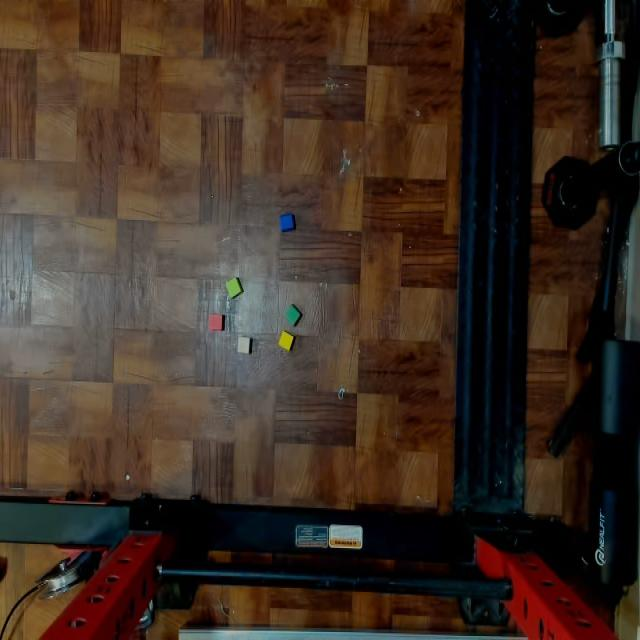block: (286, 304, 301, 325), (228, 277, 243, 297), (279, 213, 295, 231), (278, 333, 294, 351), (237, 336, 252, 353), (209, 315, 224, 331)
